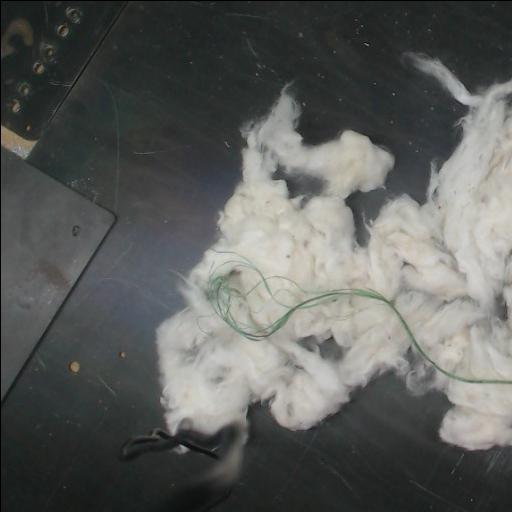conveyor belt: (1, 1, 512, 512), (214, 374, 512, 512)
cotton: (157, 53, 512, 479), (384, 54, 512, 352)
thread: (207, 250, 512, 384)
